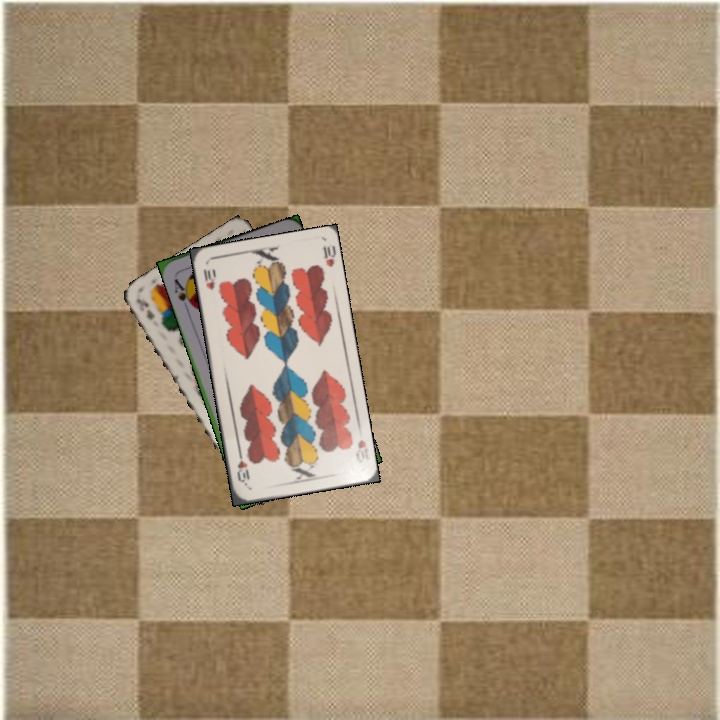EK: (133, 295, 157, 322)
H10: (352, 436, 371, 465), (199, 265, 218, 293)
SA: (170, 274, 196, 311)
